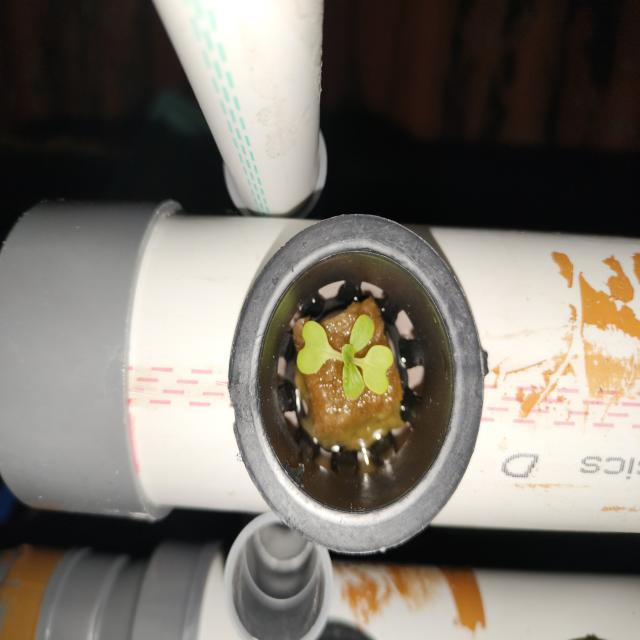daun-pakcoy: (293, 318, 335, 375), (354, 345, 394, 395), (342, 345, 365, 399), (350, 314, 375, 354)
